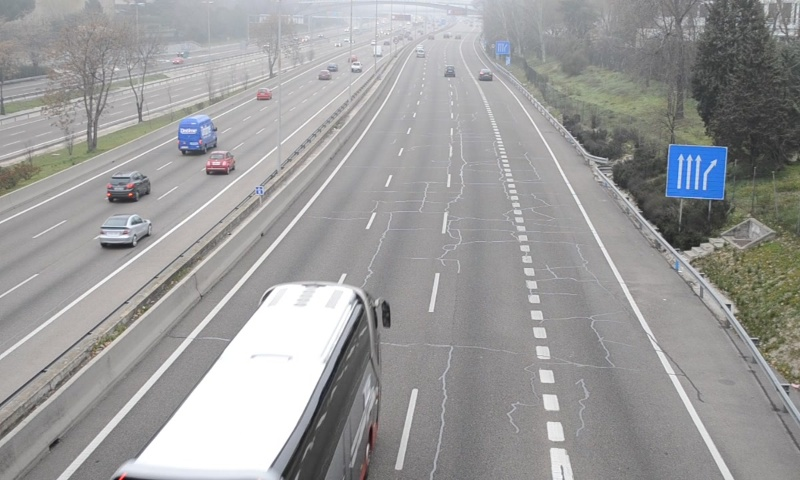bus: (118, 284, 381, 480)
car: (477, 68, 493, 82), (443, 64, 457, 78)
